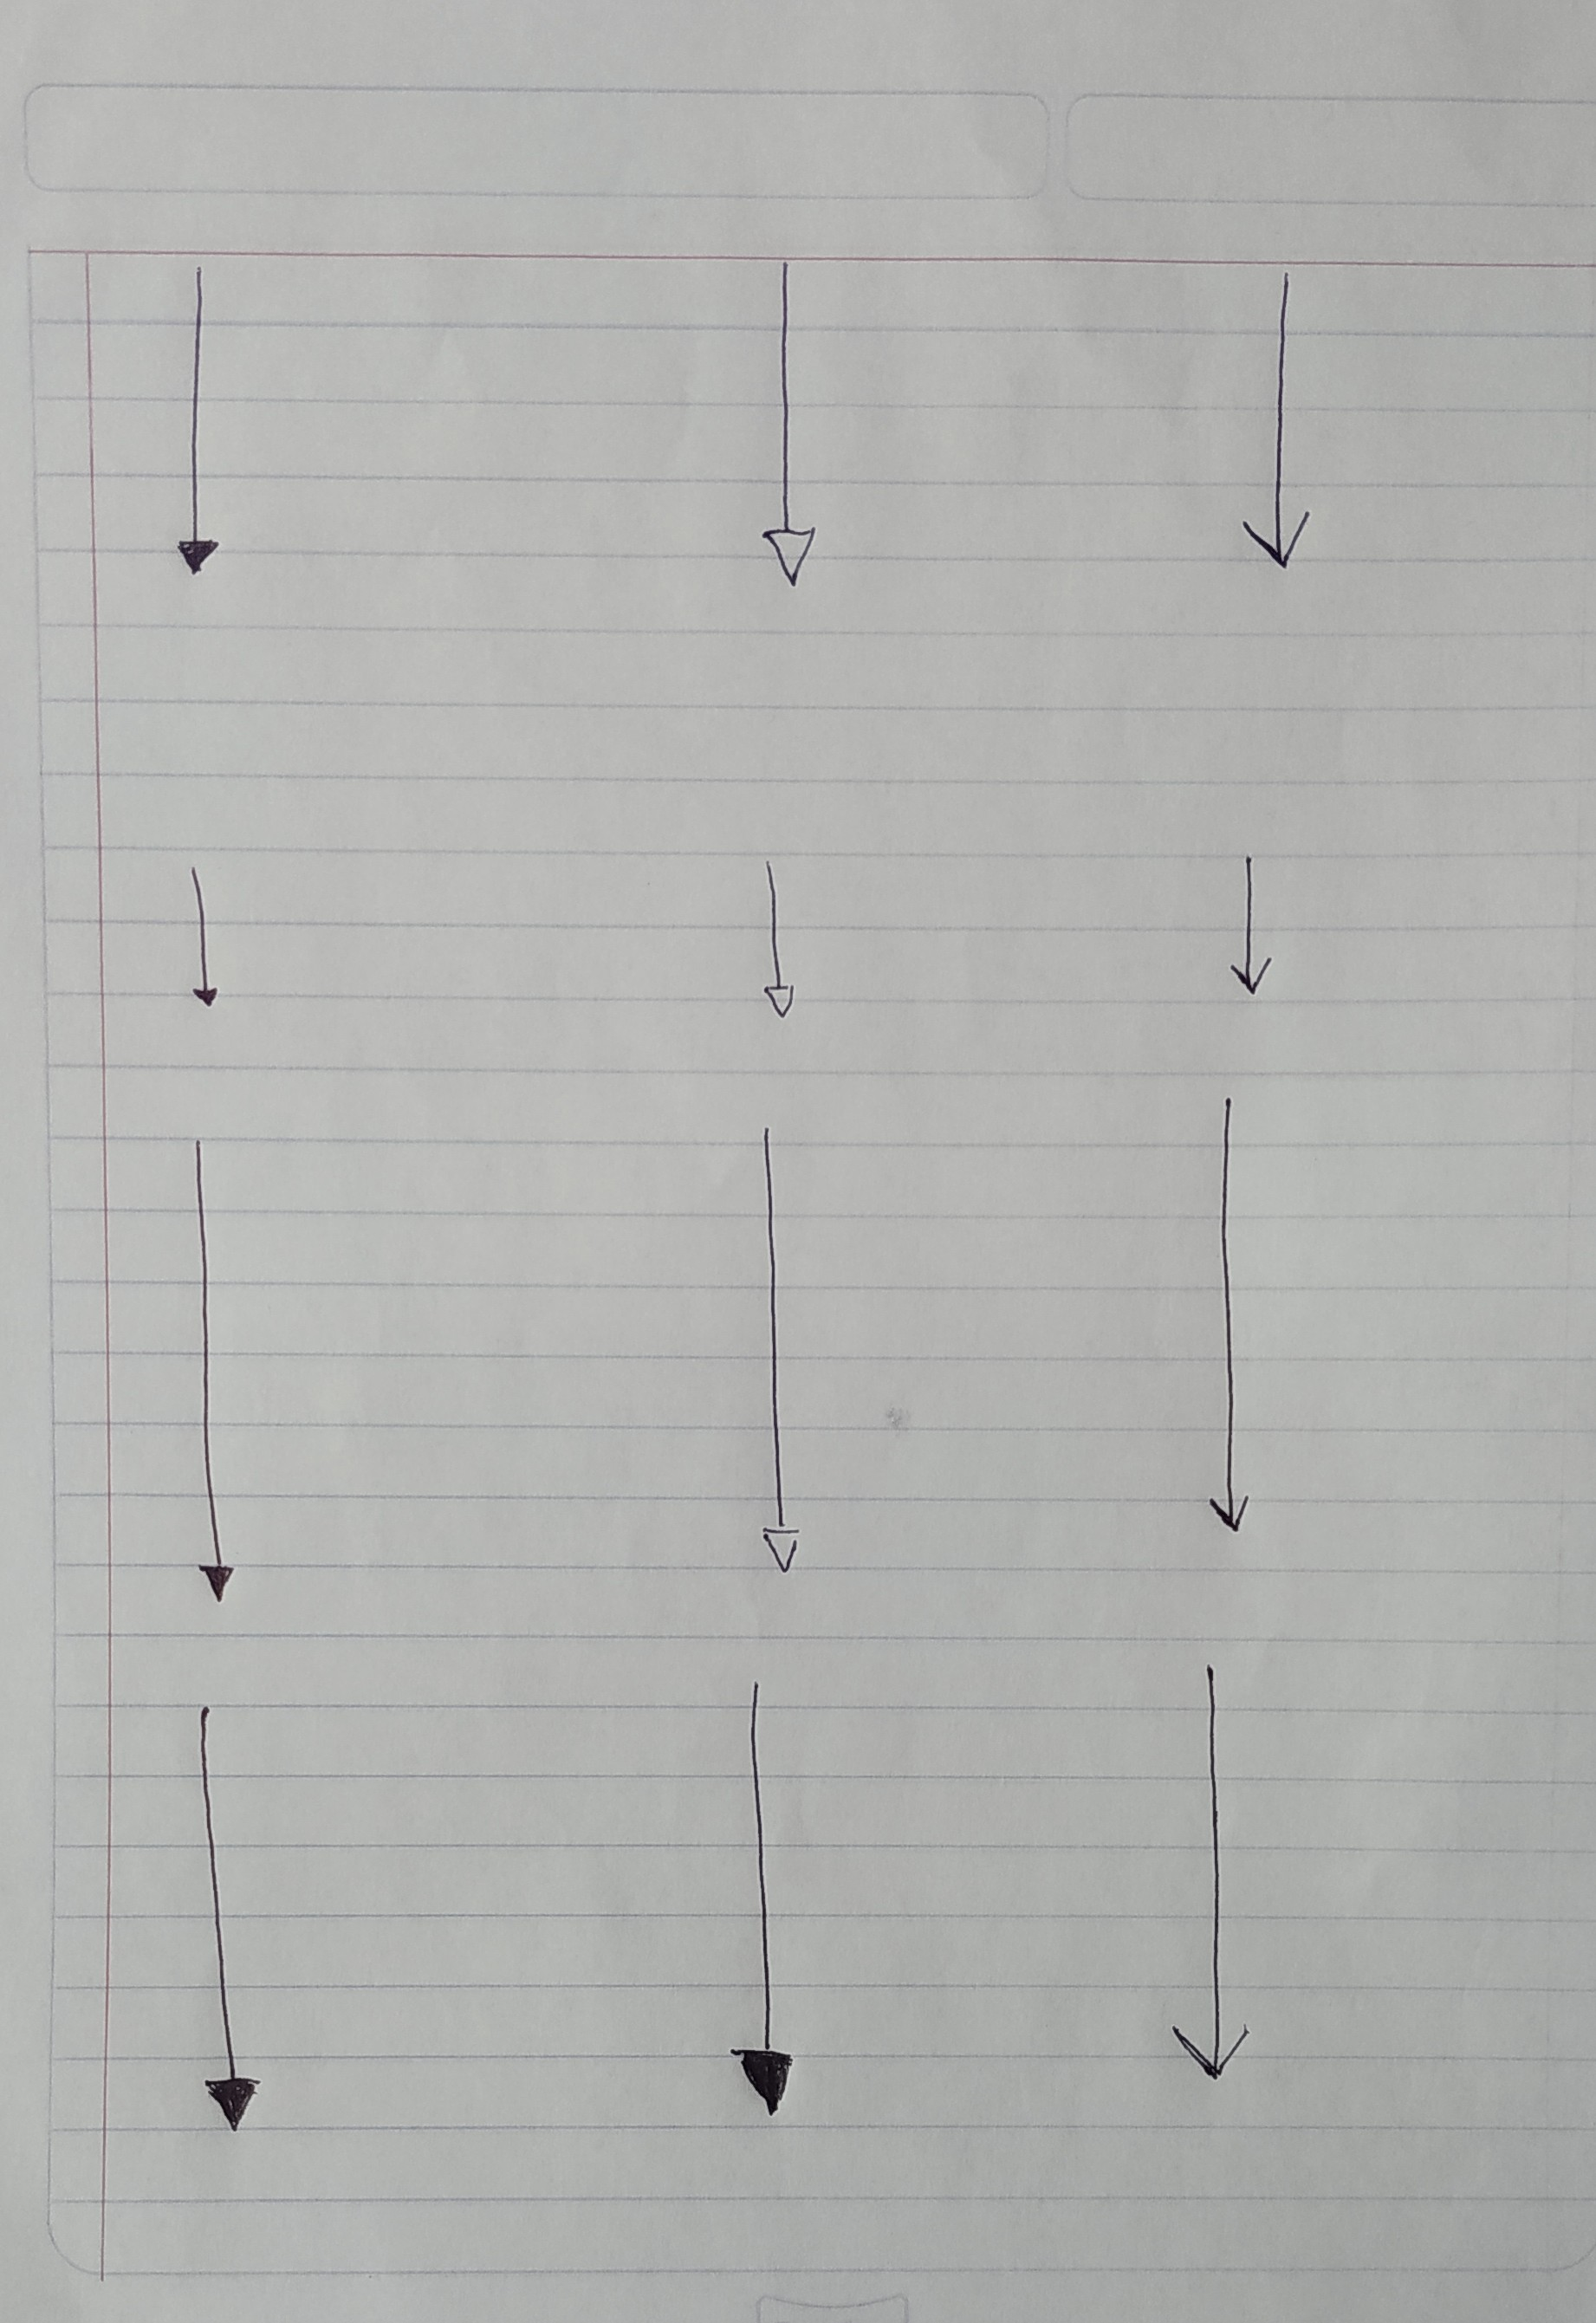arrow_line_down: (1162, 1650, 1257, 2092), (180, 1702, 268, 2138), (726, 1673, 807, 2122), (169, 1133, 240, 1612), (1197, 1087, 1262, 1541), (743, 1121, 807, 1575), (1238, 265, 1315, 584), (756, 245, 819, 600), (164, 259, 231, 593), (1216, 840, 1275, 997), (752, 851, 802, 1029), (177, 858, 222, 1013)
